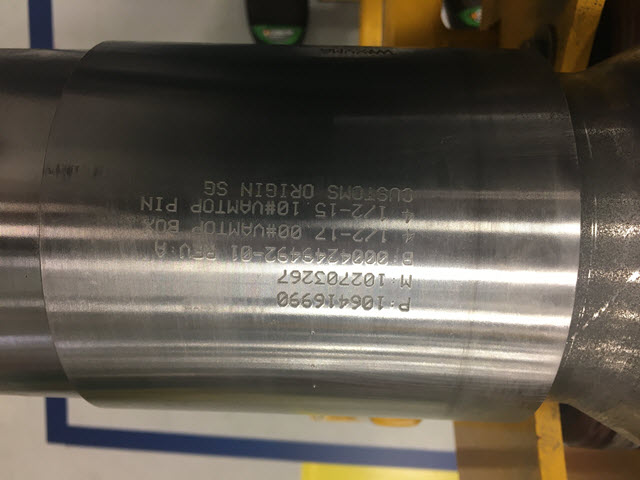character: (136, 193, 156, 213), (228, 243, 243, 269), (395, 295, 414, 314), (359, 292, 376, 312), (301, 245, 317, 266), (239, 243, 254, 265), (276, 289, 290, 312), (400, 181, 414, 204), (349, 292, 364, 313), (164, 194, 179, 215), (276, 244, 291, 265), (200, 197, 216, 216), (224, 198, 240, 217), (251, 244, 265, 265), (238, 180, 254, 198), (325, 248, 341, 266), (301, 290, 316, 309), (337, 269, 352, 288), (276, 267, 291, 286), (277, 222, 292, 241), (263, 197, 277, 217), (314, 244, 328, 264), (264, 244, 278, 264), (240, 195, 253, 216), (263, 180, 278, 198), (338, 201, 353, 219), (337, 292, 351, 311), (313, 290, 327, 309), (389, 184, 401, 206), (289, 290, 302, 310), (376, 184, 389, 204), (289, 197, 302, 217), (352, 247, 365, 267), (301, 268, 316, 285), (375, 249, 390, 266), (338, 184, 352, 202), (189, 196, 203, 214), (362, 202, 376, 220), (402, 250, 416, 268), (252, 223, 266, 241), (227, 220, 241, 238), (202, 178, 215, 197), (363, 185, 376, 204), (276, 198, 289, 217), (365, 247, 378, 266), (374, 292, 386, 312), (326, 290, 338, 310), (350, 271, 365, 287), (312, 269, 327, 285), (326, 269, 340, 286), (215, 219, 229, 236), (400, 272, 413, 290), (215, 179, 228, 197), (289, 182, 302, 200), (351, 185, 364, 203), (314, 200, 327, 218), (340, 250, 353, 268), (253, 197, 264, 218), (326, 182, 338, 201), (351, 201, 363, 220), (290, 222, 302, 241), (241, 220, 253, 239), (363, 272, 377, 288), (290, 268, 303, 285), (291, 244, 302, 264), (326, 200, 338, 218), (303, 182, 314, 201), (376, 203, 387, 222), (214, 198, 226, 215), (278, 181, 288, 201), (265, 223, 278, 238), (155, 192, 164, 213), (253, 181, 263, 199), (377, 272, 386, 289)
